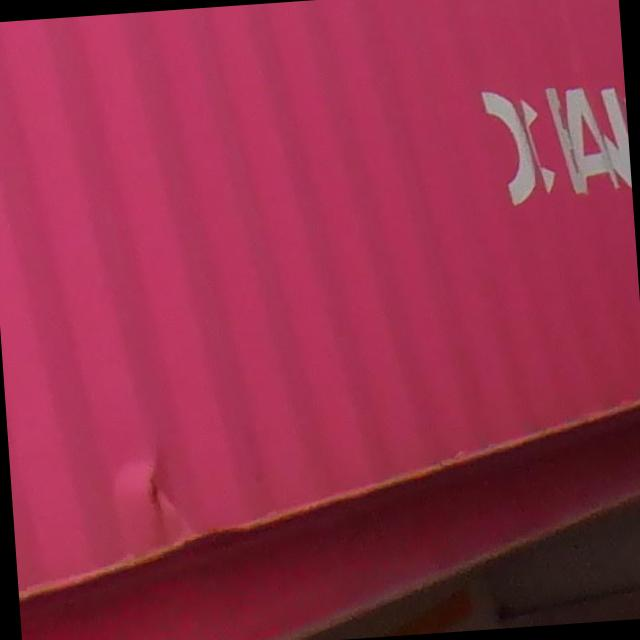Deframe_or_Dent: (96, 436, 214, 544)
